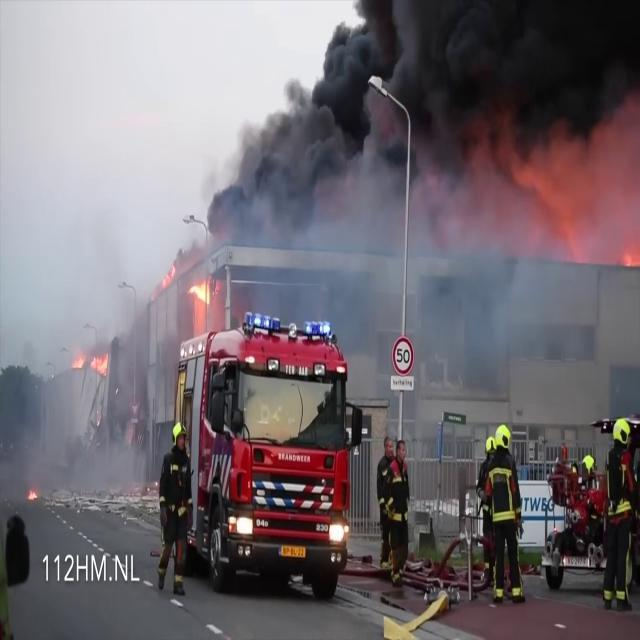Smoke: (204, 0, 640, 262), (309, 192, 640, 449), (38, 280, 146, 510)
